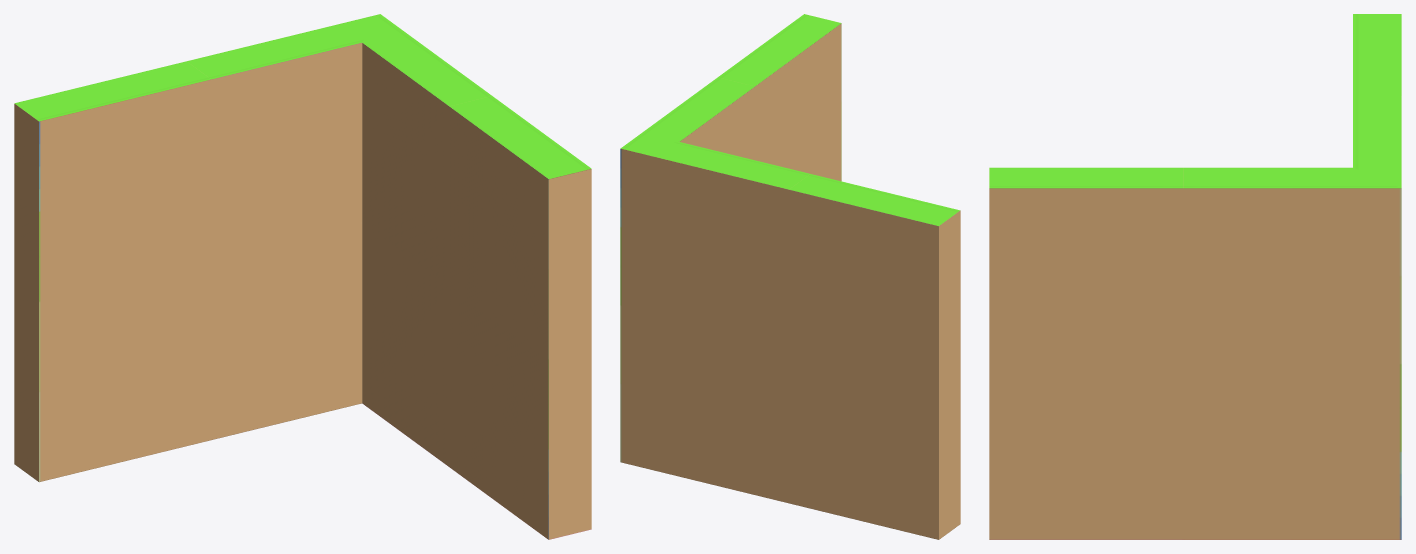
File: MK_MK_Wall_Corner_In_C.fbx
3 views of the same model, side by side, from view 1: azimuth 30°, elevation 25°; view 2: azimuth 150°, elevation 25°; view 3: azimuth 270°, elevation 25° (orthographic). The views are drawn at different scales.
Parts seen in each view (by area): view 1: MK_Wall_Corner_In_C; view 2: MK_Wall_Corner_In_C; view 3: MK_Wall_Corner_In_C.
Boxes of the visible parts, left/top/right/bottom form: MK_Wall_Corner_In_C: left=14, top=14, right=591, bottom=539; MK_Wall_Corner_In_C: left=620, top=14, right=960, bottom=539; MK_Wall_Corner_In_C: left=989, top=14, right=1401, bottom=539.
Size of the model in its own units: 191 by 180 by 191.
Materials: 1 (1 with a texture image).
